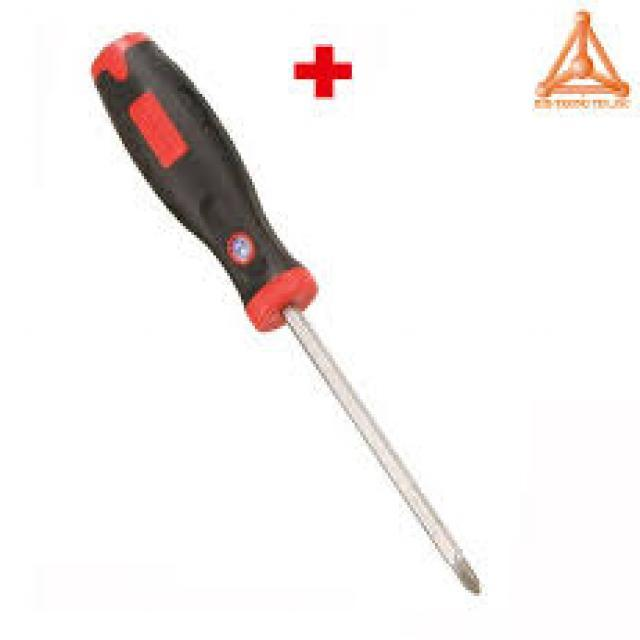screwdriver: (88, 29, 484, 599)
